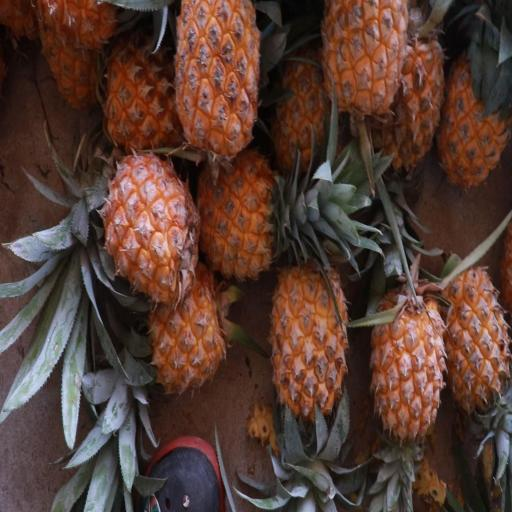Pineapple - v8 v1: (93, 142, 204, 307), (268, 250, 352, 462), (196, 140, 308, 287), (169, 0, 262, 167), (368, 280, 452, 464), (434, 254, 512, 432), (436, 11, 510, 192), (370, 13, 448, 184), (148, 255, 236, 406), (315, 0, 413, 104)
